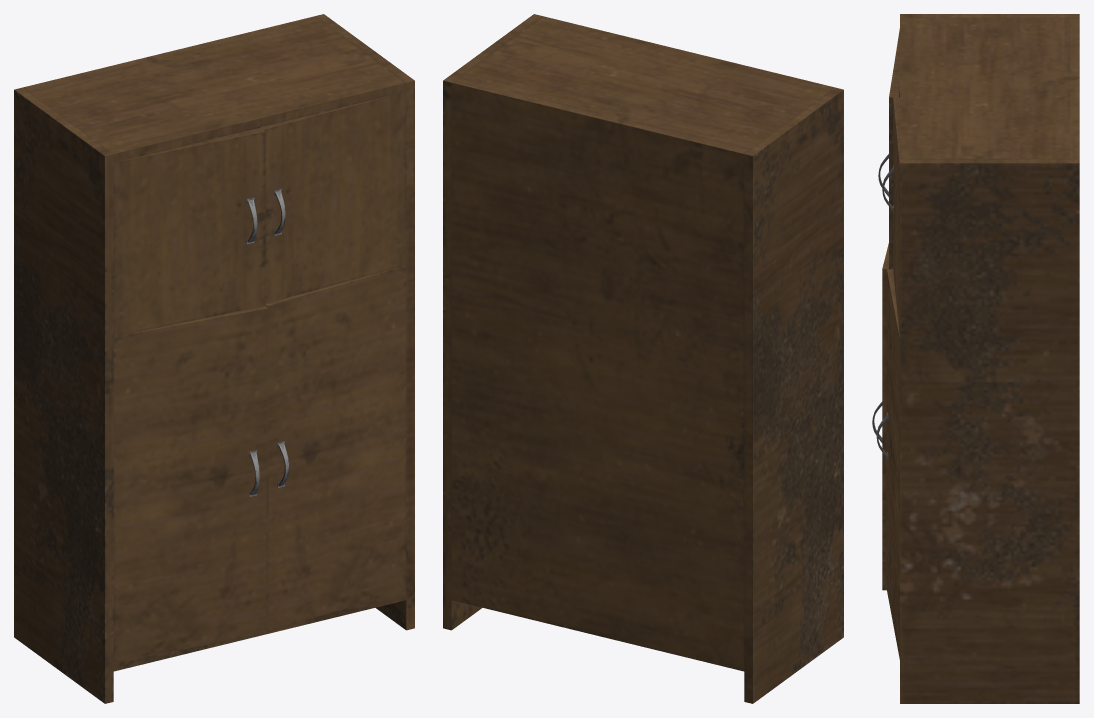
The model's file is closet.glb.
The picture shows the model from 3 angles, left to right: view 1: azimuth 30°, elevation 25°; view 2: azimuth 150°, elevation 25°; view 3: azimuth 270°, elevation 25°; orthographic projection.
Parts seen in each view (by area): view 1: closet; view 2: closet; view 3: closet.
Part boxes in pixels (box(x1,y1,x2,y2)): closet: box(14, 14, 414, 703); closet: box(443, 14, 843, 703); closet: box(872, 14, 1079, 703).
Bounding box in the file's own units: 3.63 × 6.13 × 2.13.
Materials: 1 (1 with a texture image).
